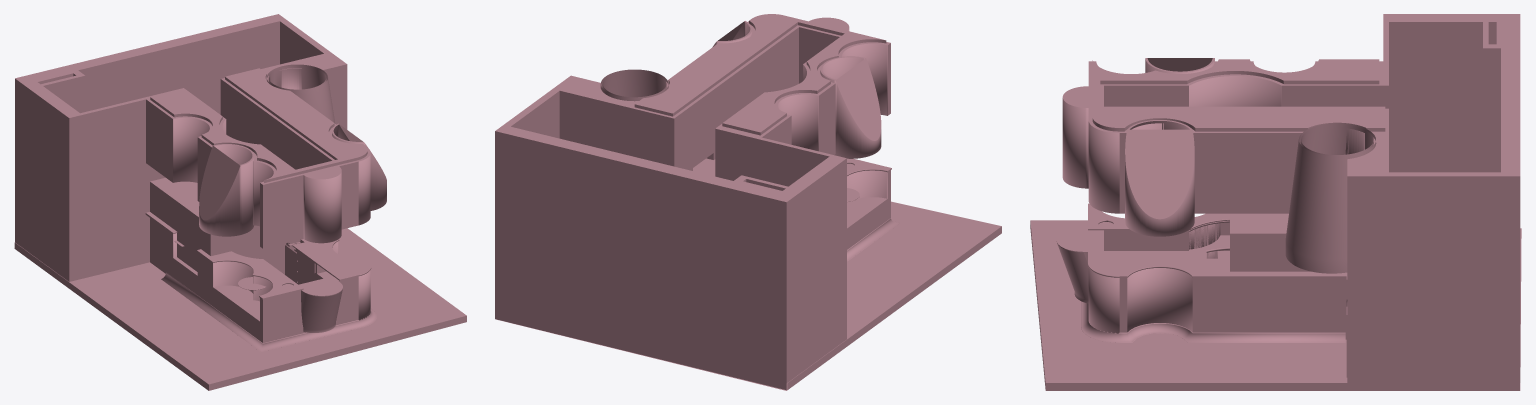
Rendered from asset.glb.
3 renders of one model, left to right at view 1: azimuth 30°, elevation 25°; view 2: azimuth 150°, elevation 25°; view 3: azimuth 270°, elevation 25°, orthographic. The views are drawn at different scales.
Visible parts, largest first — view 1: the final model, Cube; view 2: the final model; view 3: the final model, Cube.
Part boxes in pixels (bbox=[...]): the final model: bbox=[14, 14, 466, 390]; Cube: bbox=[150, 177, 286, 274]; the final model: bbox=[495, 14, 1001, 390]; the final model: bbox=[1030, 14, 1521, 390]; Cube: bbox=[1230, 213, 1310, 271].
Bounding box in the file's own units: 4.98 × 3.12 × 6.36.
